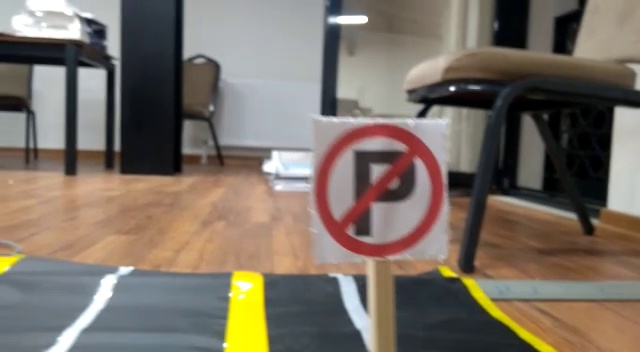park_yapilmaz: (311, 112, 446, 258)
